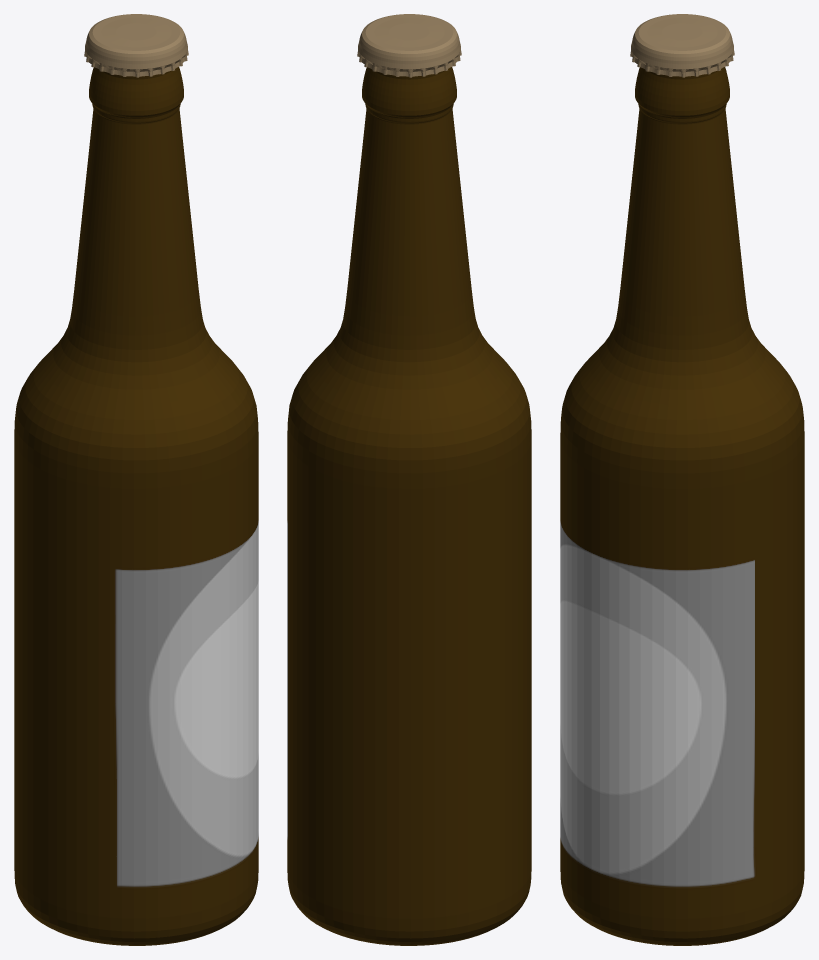
The model's file is beer_bottle.obj.
3 renders of one model, left to right at view 1: azimuth 30°, elevation 25°; view 2: azimuth 150°, elevation 25°; view 3: azimuth 270°, elevation 25°, orthographic.
Parts seen in each view (by area): view 1: bottle_bottle_mesh, cap; view 2: bottle_bottle_mesh, cap; view 3: bottle_bottle_mesh, cap.
Boxes of the visible parts, bbox=[...] form: bottle_bottle_mesh: bbox=[14, 67, 258, 945]; cap: bbox=[84, 14, 188, 77]; bottle_bottle_mesh: bbox=[287, 67, 531, 945]; cap: bbox=[357, 14, 461, 77]; bottle_bottle_mesh: bbox=[560, 67, 804, 945]; cap: bbox=[630, 14, 734, 77].
Size of the model in its own units: 5.09 by 19.98 by 5.09.
Materials: 3 (1 with a texture image).
